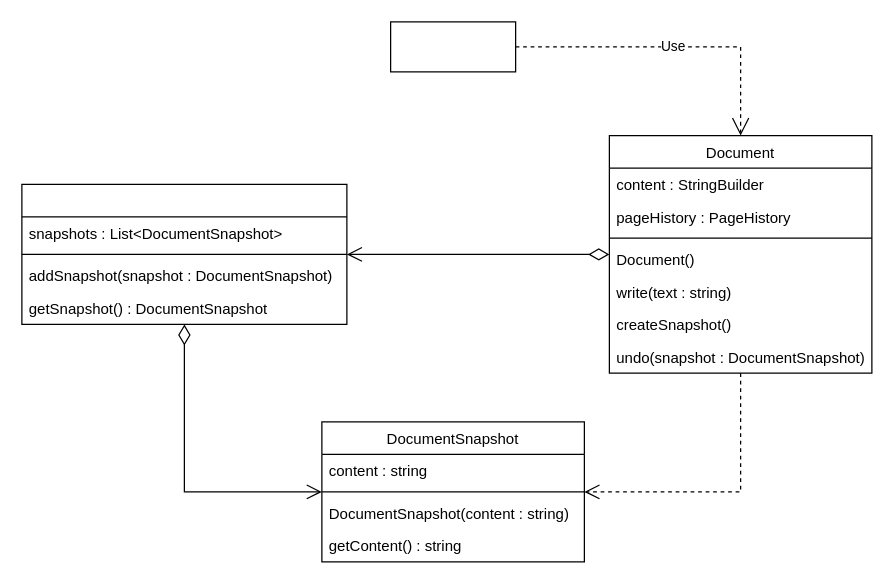
This 894x588 diagram has some shape labels left out. Each missing label, with the box of its shape:
Client: (389, 21, 516, 72)
PageHistory: (21, 183, 347, 324)
